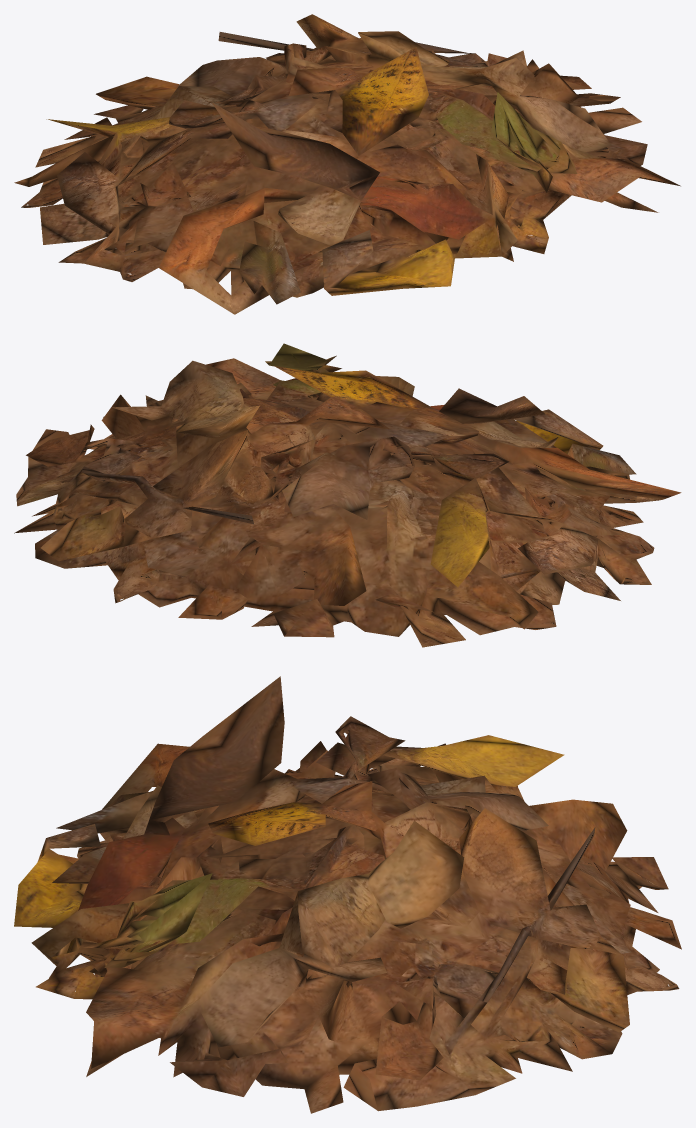
File: VEG_HojasSecasMonton_01_LOD0.fbx
3 renders of one model, top to bottom at view 1: azimuth 30°, elevation 25°; view 2: azimuth 150°, elevation 25°; view 3: azimuth 270°, elevation 25°, orthographic. The views are drawn at different scales.
Parts seen in each view (by area): view 1: VEG_HojasSecasMonton_01_Mesh000; view 2: VEG_HojasSecasMonton_01_Mesh000; view 3: VEG_HojasSecasMonton_01_Mesh000.
Part boxes in pixels (bbox=[...]): VEG_HojasSecasMonton_01_Mesh000: bbox=[14, 14, 680, 314]; VEG_HojasSecasMonton_01_Mesh000: bbox=[14, 343, 681, 647]; VEG_HojasSecasMonton_01_Mesh000: bbox=[14, 676, 681, 1113].
Bounding box in the file's own units: 1.4 × 0.3332 × 1.12.
